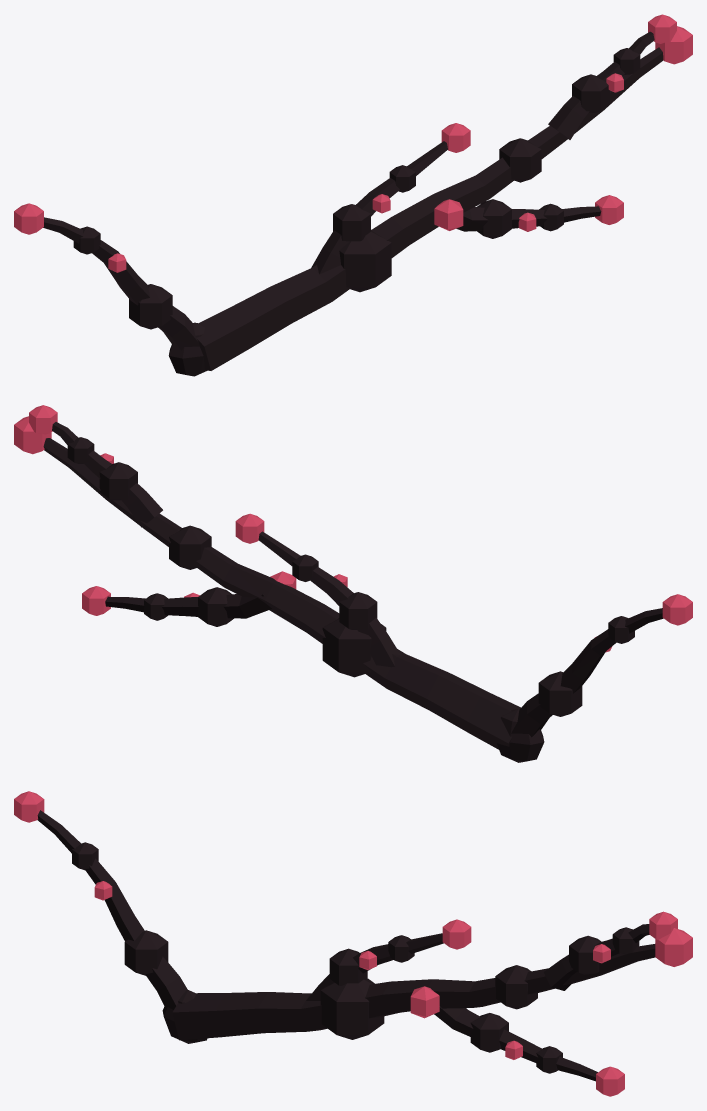
The model's file is Branch_Wall_B.fbx.
3 renders of one model, top to bottom at view 1: azimuth 30°, elevation 25°; view 2: azimuth 150°, elevation 25°; view 3: azimuth 330°, elevation 25°, orthographic.
Parts seen in each view (by area): view 1: Branch_Wall_B; view 2: Branch_Wall_B; view 3: Branch_Wall_B.
Part boxes in pixels (<box>): Branch_Wall_B: <box>14,14,692,376</box>; Branch_Wall_B: <box>14,405,692,762</box>; Branch_Wall_B: <box>14,791,692,1096</box>.
Size of the model in its own units: 2.6 by 0.9067 by 0.2128.
